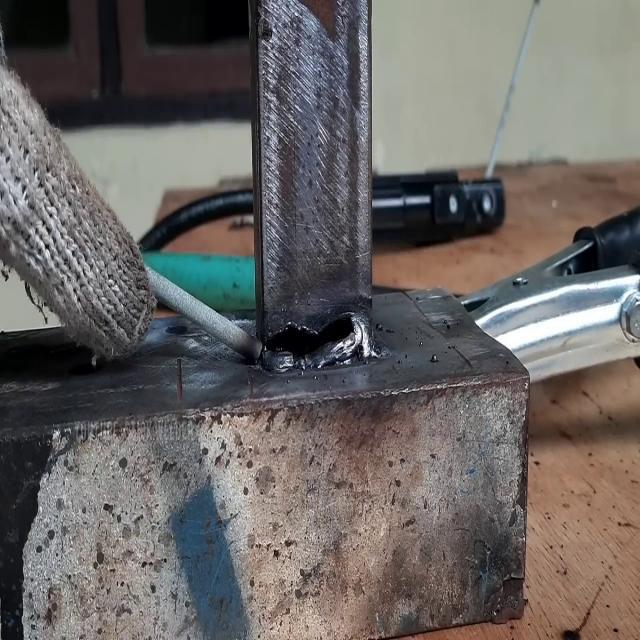Bad Weld: (260, 309, 378, 375)
